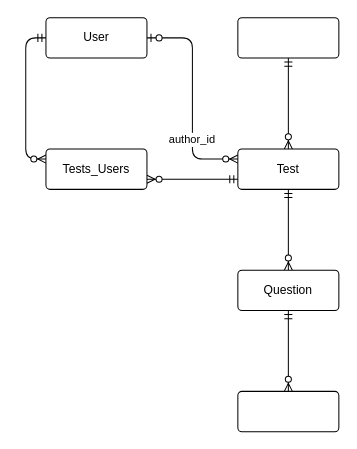
This 357x449 diagram has some shape labels left out. The centre of each missing label's shape, as x and y in pixels:
"Answer" belongs at point 288,411.
"Category" belongs at point 288,37.
